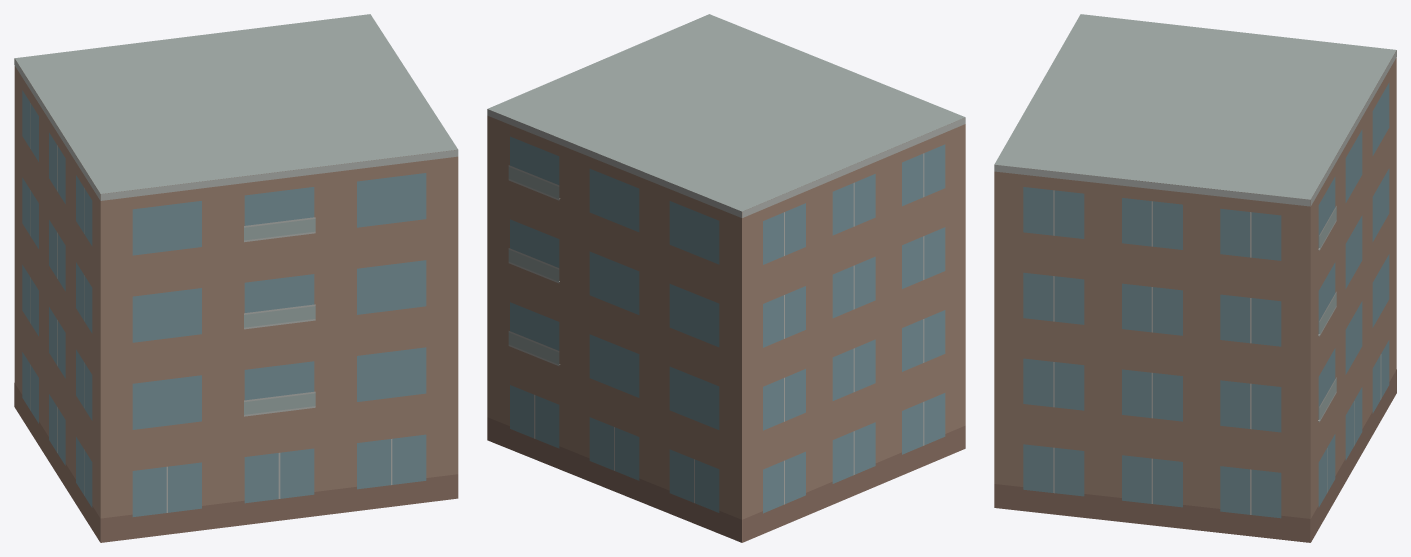
Rendered from residential-c736f6c0-5c90-491b-8627-ad3370cac7bf.glb.
The picture shows the model from 3 angles, left to right: view 1: azimuth 30°, elevation 25°; view 2: azimuth 150°, elevation 25°; view 3: azimuth 270°, elevation 25°; orthographic projection. The views are drawn at different scales.
Visible parts, largest first — view 1: residential-c736f6c0-5c90-491b-8627-ad3370cac7bf.tmp; view 2: residential-c736f6c0-5c90-491b-8627-ad3370cac7bf.tmp; view 3: residential-c736f6c0-5c90-491b-8627-ad3370cac7bf.tmp.
Boxes of the visible parts, <box> form: residential-c736f6c0-5c90-491b-8627-ad3370cac7bf.tmp: <box>14,14,458,542</box>; residential-c736f6c0-5c90-491b-8627-ad3370cac7bf.tmp: <box>487,14,965,542</box>; residential-c736f6c0-5c90-491b-8627-ad3370cac7bf.tmp: <box>994,14,1396,542</box>.
Size of the model in its own units: 14.17 by 12.2 by 12.98.
